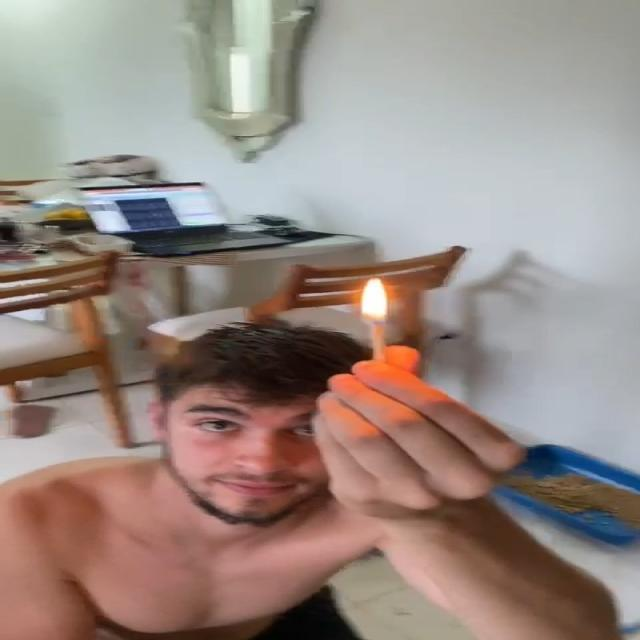fire: (358, 275, 394, 332)
